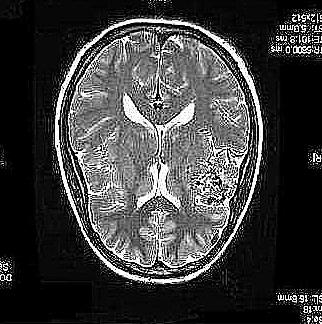Normal_Brain: (1, 1, 322, 324)
